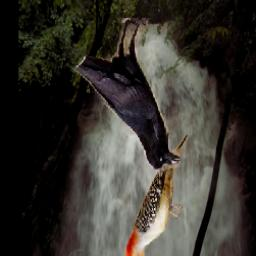Crow: (72, 18, 181, 174)
Woodpecker: (124, 130, 188, 256)
